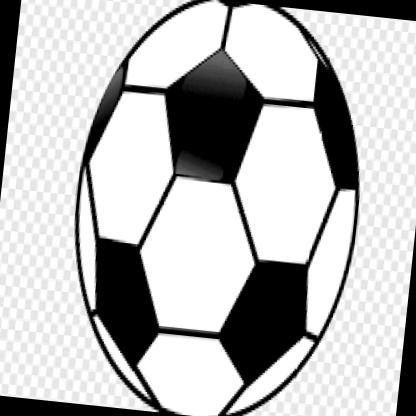ball: (53, 0, 379, 416)
